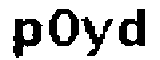0: (47, 5, 82, 49)
d: (117, 5, 147, 50)
p: (13, 14, 43, 59)
y: (82, 14, 113, 60)
